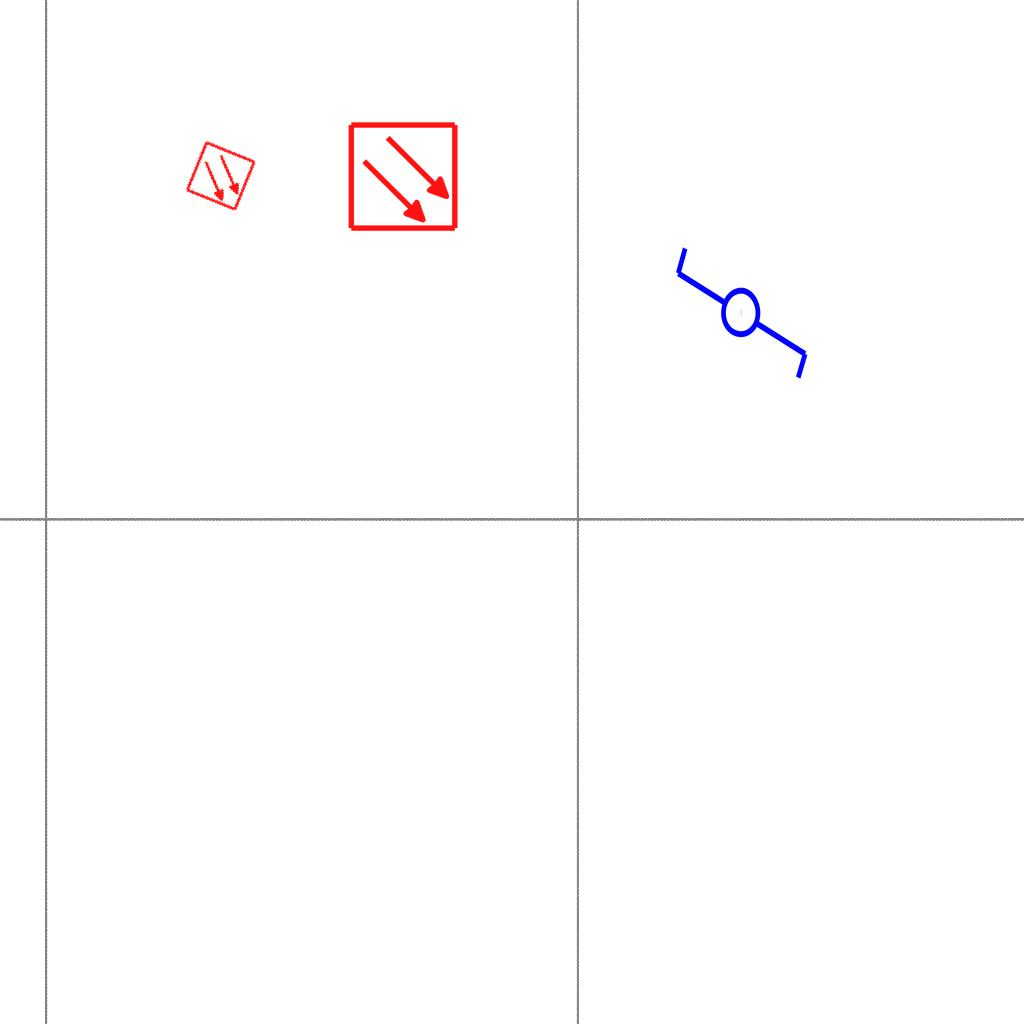RMO_Rauchmelder_optischer: (347, 120, 460, 233), (184, 139, 258, 213)
Wechselschalter: (671, 226, 815, 383)
